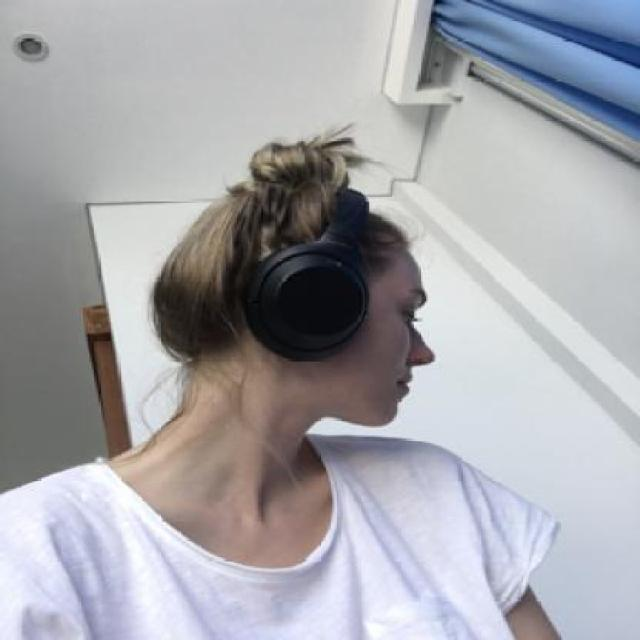earphone: (250, 135, 387, 403)
